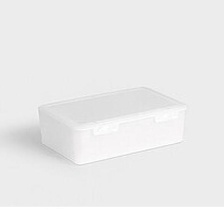plastic_box: (31, 78, 194, 171)
